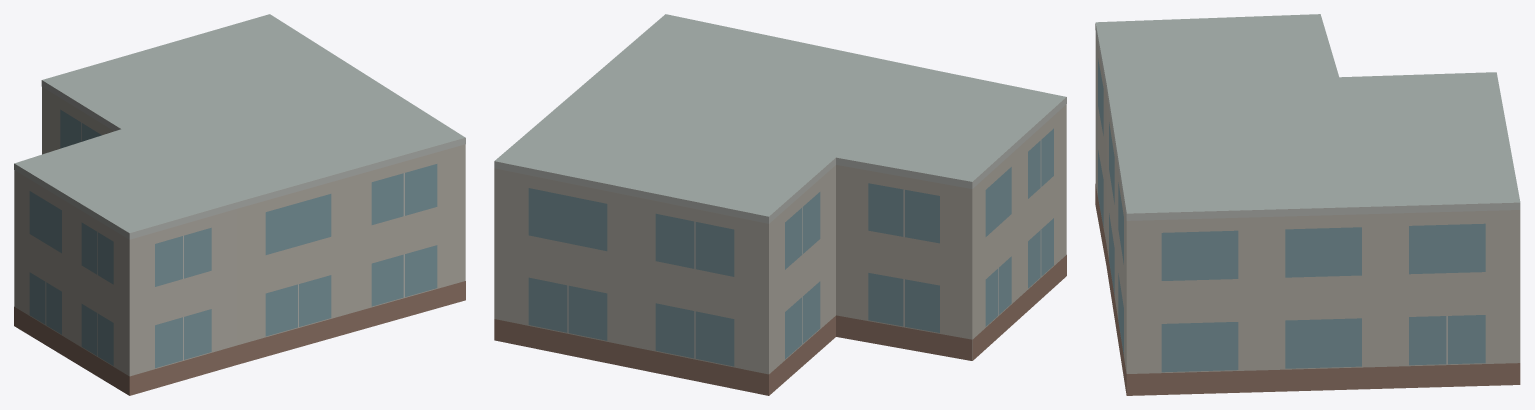
File: survey-upis-32967970.glb
The picture shows the model from 3 angles, left to right: view 1: azimuth 30°, elevation 25°; view 2: azimuth 150°, elevation 25°; view 3: azimuth 270°, elevation 25°; orthographic projection. The views are drawn at different scales.
Parts seen in each view (by area): view 1: survey-upis-32967970.tmp; view 2: survey-upis-32967970.tmp; view 3: survey-upis-32967970.tmp.
Part boxes in pixels (x1=…): survey-upis-32967970.tmp: x1=14, y1=14, x2=465, y2=395; survey-upis-32967970.tmp: x1=494, y1=14, x2=1066, y2=395; survey-upis-32967970.tmp: x1=1095, y1=14, x2=1520, y2=395.
Size of the model in its own units: 14.34 by 6.1 by 12.9.
